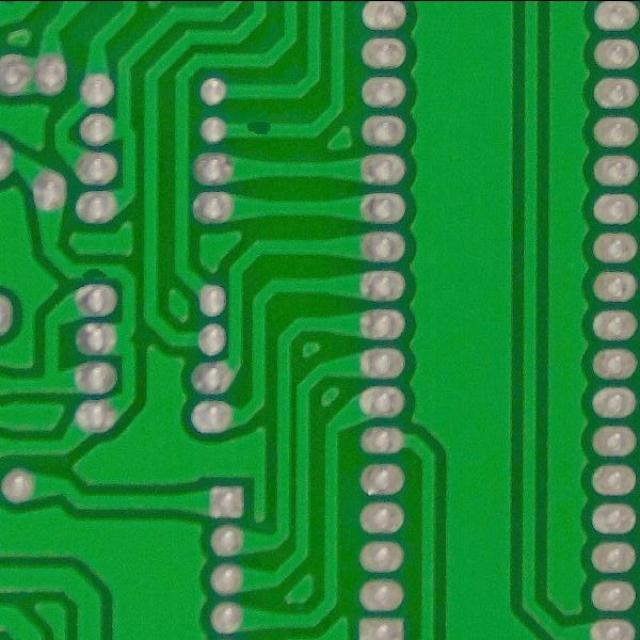MouseBite: (235, 115, 282, 143), (76, 258, 113, 284)
